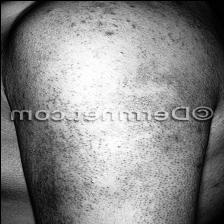Non-Cancerous Skin Condition: (11, 0, 195, 102), (42, 124, 203, 224)
